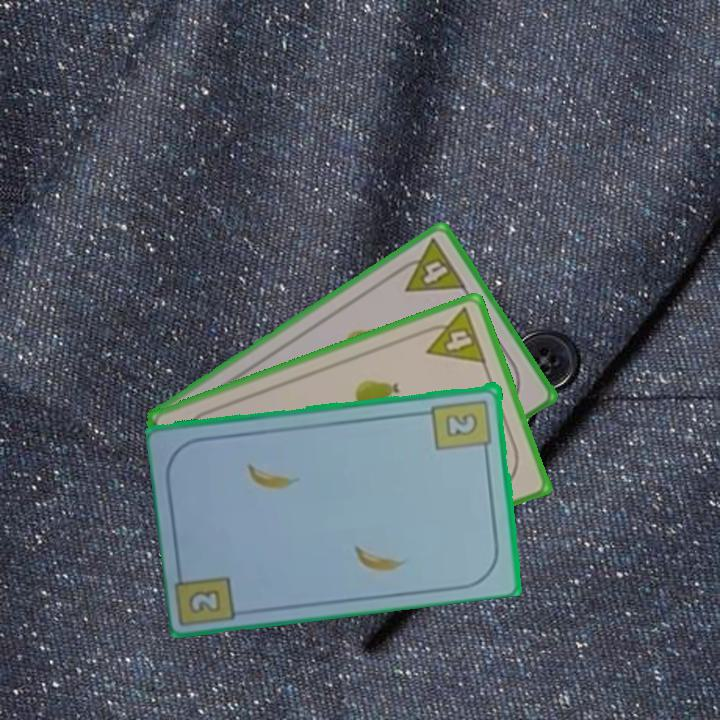2b: (429, 395, 495, 457), (184, 585, 225, 617)
4p: (390, 234, 469, 295), (416, 304, 489, 367)
